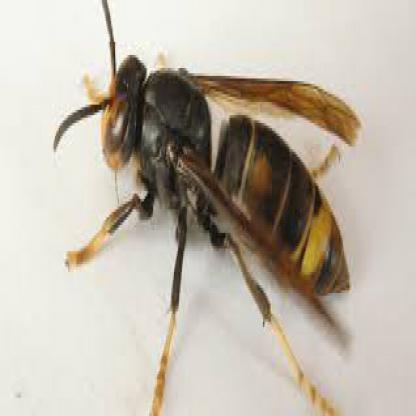asian: (56, 10, 368, 414)
